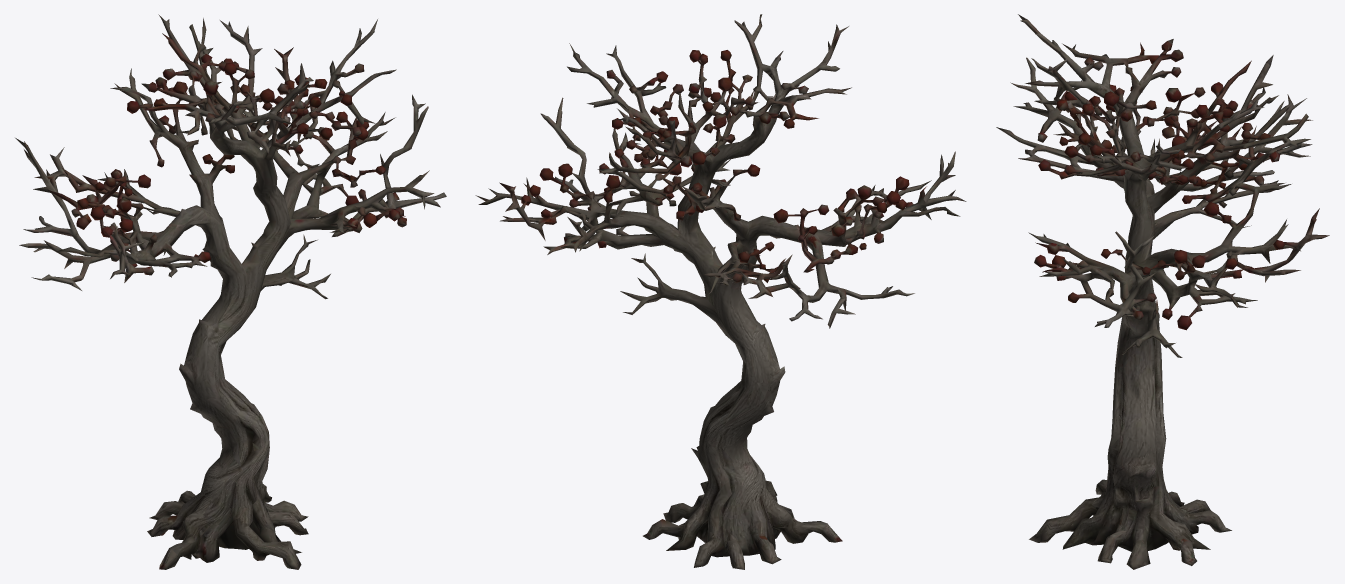
Rendered from hawthorn.opt.glb.
3 renders of one model, left to right at view 1: azimuth 30°, elevation 25°; view 2: azimuth 150°, elevation 25°; view 3: azimuth 270°, elevation 25°, orthographic. The views are drawn at different scales.
Parts seen in each view (by area): view 1: node_0; view 2: node_0; view 3: node_0.
Boxes of the visible parts, left/top/right/bottom form: node_0: left=15, top=14, right=446, bottom=569; node_0: left=475, top=14, right=966, bottom=569; node_0: left=996, top=14, right=1329, bottom=569.
Bounding box in the file's own units: 0.9331 × 1.04 × 0.6429.
1 material, 1 textured.
